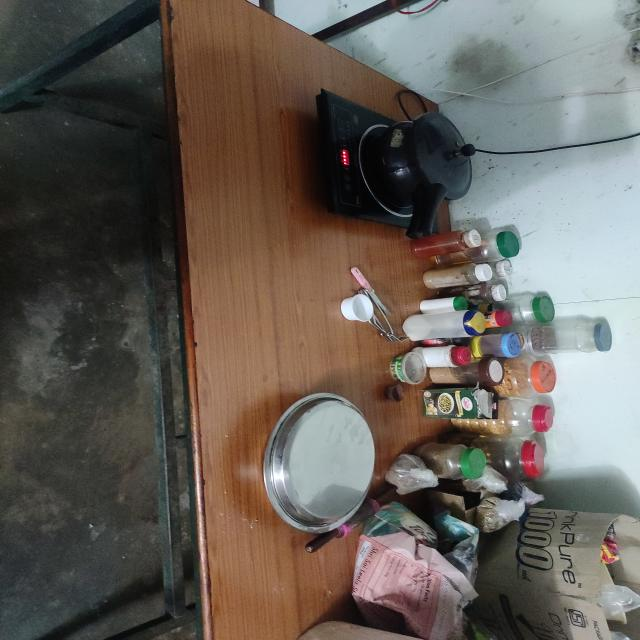bottle: (416, 443, 483, 482), (535, 323, 614, 356), (397, 311, 483, 340), (406, 229, 483, 258), (423, 264, 494, 289), (406, 343, 470, 368), (418, 293, 469, 313)
table: (256, 387, 378, 534)
